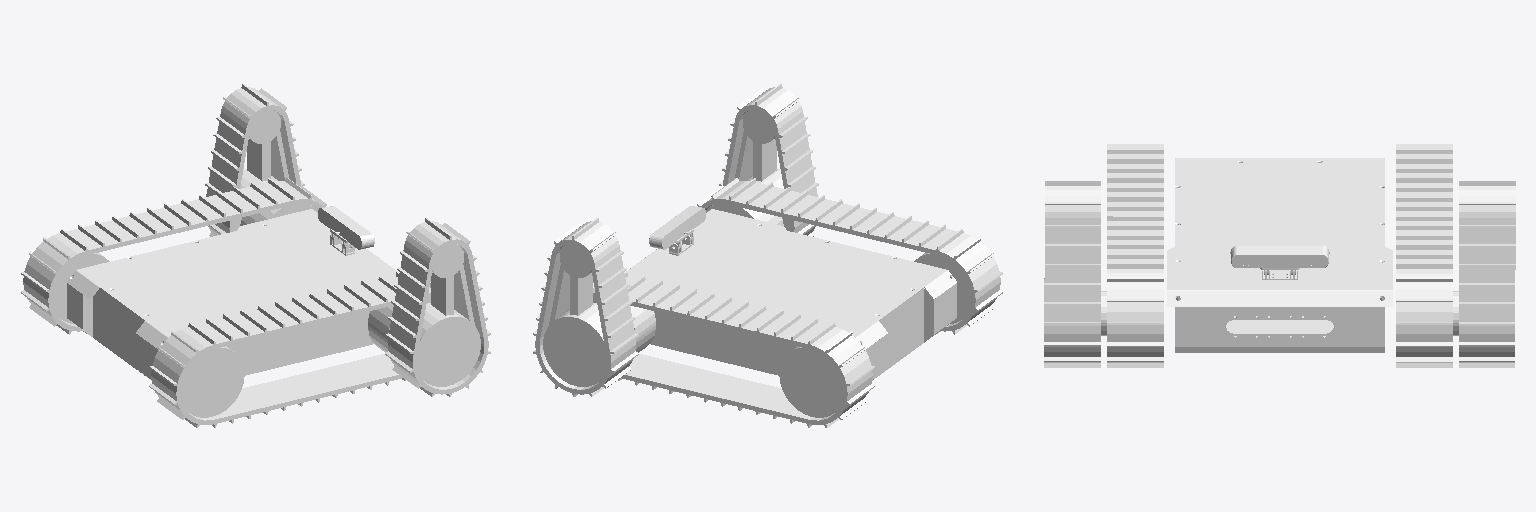
robot.urdf — tank:
<?xml version="1.0"?>
<robot name="tank">
  <material name="black">
    <color rgba="0 0 0 1"/>
  </material>
  <material name="white">
    <color rgba="1 1 1 1"/>
  </material>
  <material name="red">
    <color rgba="1 0 0 1"/>
  </material>
  <link name="base_link">
    <visual>
      <geometry>
        <sphere radius="0.05"/>
      </geometry>
      <material name="red"/>
    </visual>
  </link>
  <joint name="base_to_cad" type="fixed">
    <parent link="base_link"/>
    <child link="base_cad"/>
    <origin rpy="0 0 3.1415" xyz="-0.018 0 0"/>
  </joint>
  <link name="base_cad">
    <visual>
      <origin rpy="1.571 0 0" xyz="0 0 0.0955"/>
      <geometry>
        <mesh scale="0.001 0.001 0.001" filename="package://urdf_tutorial/meshes/ChassisWOComp.STL"/>
      </geometry>
      <material name="white"/>
    </visual>
  </link>
</robot>

--- Render facts (derived) ---
The picture shows the robot from 3 angles, left to right: view 1: azimuth 30°, elevation 25°; view 2: azimuth 150°, elevation 25°; view 3: azimuth 270°, elevation 25°; orthographic projection.
Robot: tank — 2 links, 1 joints (1 fixed); root link base_link; default pose: every joint at zero.
Links seen in each view (by area): view 1: base_cad; view 2: base_cad; view 3: base_cad.
Link boxes in pixels (x1=…): base_cad: x1=21, y1=84, x2=490, y2=427; base_cad: x1=533, y1=84, x2=1002, y2=427; base_cad: x1=1044, y1=144, x2=1515, y2=367.
Size in the robot's own frame: 0.6675 by 0.8301 by 0.4036 metres.
1 mesh visuals loaded from 1 distinct referenced files (1 binary STL).